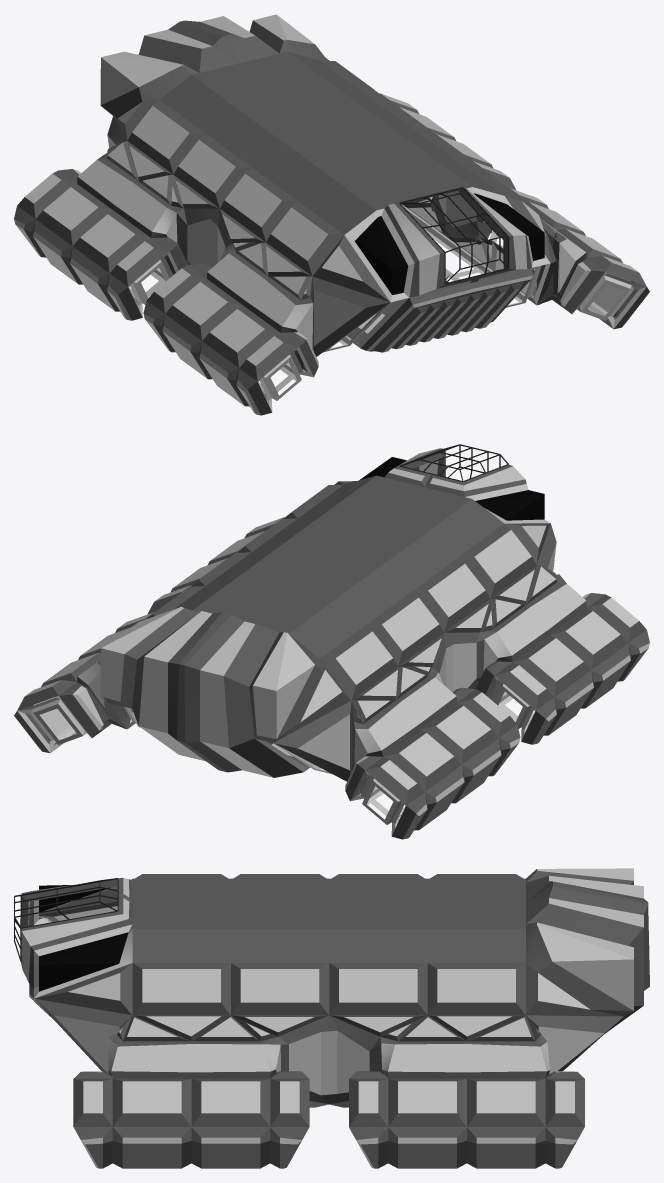
File: hat-390.dae
3 renders of one model, top to bottom at view 1: azimuth 30°, elevation 25°; view 2: azimuth 150°, elevation 25°; view 3: azimuth 270°, elevation 25°, orthographic. The views are drawn at different scales.
Visible parts, largest first — view 1: hat-390; view 2: hat-390; view 3: hat-390.
Part boxes in pixels (bbox=[...]): hat-390: bbox=[14, 14, 649, 415]; hat-390: bbox=[14, 444, 649, 839]; hat-390: bbox=[14, 868, 649, 1168].
Size of the model in its own units: 12.61 by 16.17 by 5.34.
